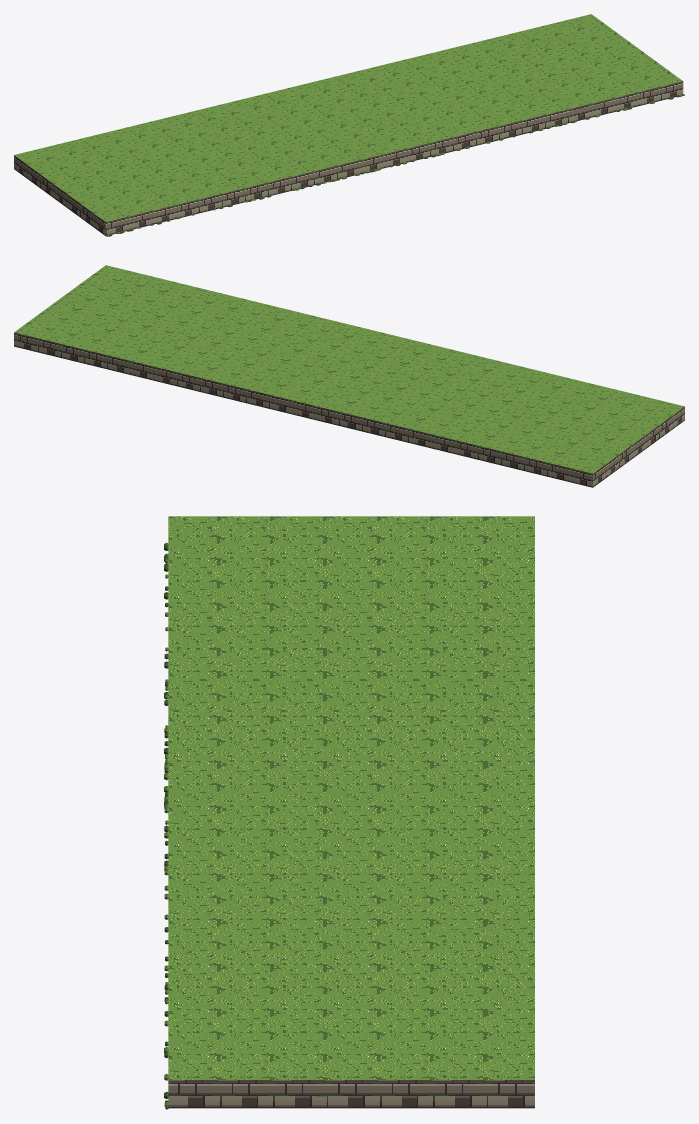
File: scene_terrace_back.glb
3 views of the same model, one above another, from view 1: azimuth 30°, elevation 25°; view 2: azimuth 150°, elevation 25°; view 3: azimuth 270°, elevation 25° (orthographic). The views are drawn at different scales.
Parts seen in each view (by area): view 1: scene_terrace_back; view 2: scene_terrace_back; view 3: scene_terrace_back.
Part boxes in pixels (box(x1,y1,x2,y2)): scene_terrace_back: box(14, 14, 684, 236); scene_terrace_back: box(14, 265, 684, 487); scene_terrace_back: box(164, 516, 534, 1109).
Size of the model in its own units: 60.15 by 1.49 by 16.69.
Materials: 3 (2 with a texture image).
